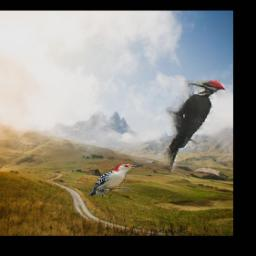Woodpecker: (159, 81, 226, 173), (88, 163, 144, 196)
